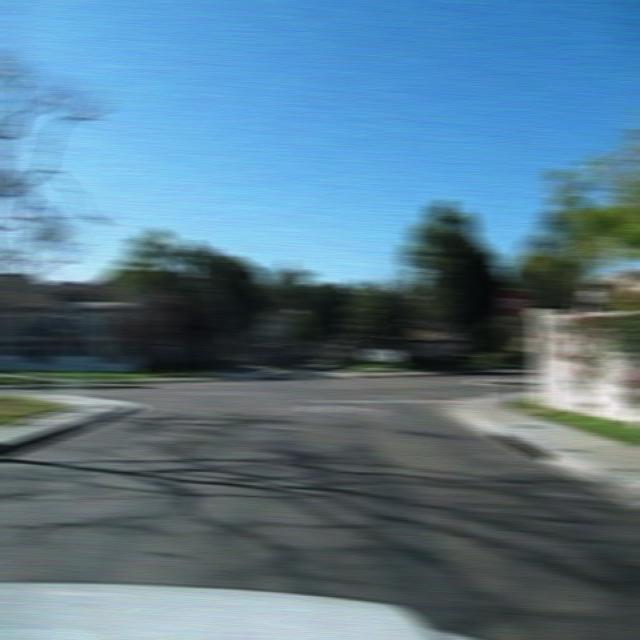stop: (497, 285, 530, 320)
